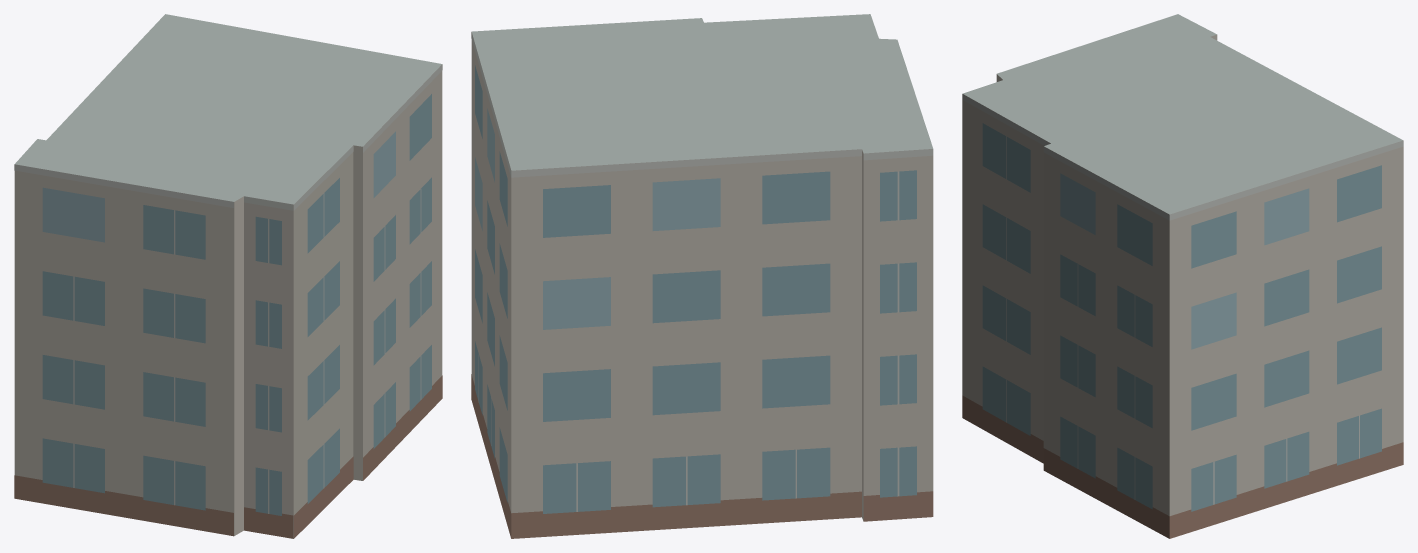
File: survey-upis-32724198.glb
3 views of the same model, side by side, from view 1: azimuth 30°, elevation 25°; view 2: azimuth 150°, elevation 25°; view 3: azimuth 270°, elevation 25° (orthographic). The views are drawn at different scales.
Parts seen in each view (by area): view 1: survey-upis-32724198.tmp; view 2: survey-upis-32724198.tmp; view 3: survey-upis-32724198.tmp.
Part boxes in pixels (x1=…): survey-upis-32724198.tmp: x1=14, y1=14, x2=442, y2=538; survey-upis-32724198.tmp: x1=471, y1=14, x2=933, y2=538; survey-upis-32724198.tmp: x1=962, y1=14, x2=1403, y2=538.
Bounding box in the file's own units: 17.25 × 13 × 16.03.
